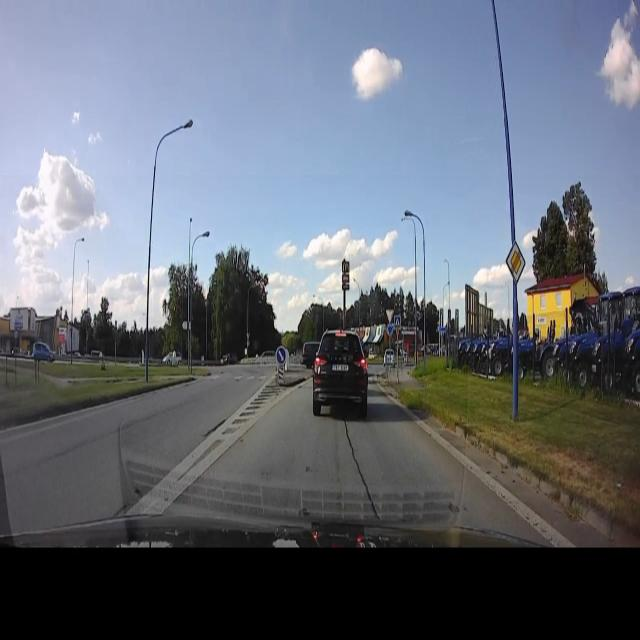Car: (314, 327, 371, 419)
Pedestrian crosswalk: (207, 367, 274, 382), (394, 315, 401, 329)
